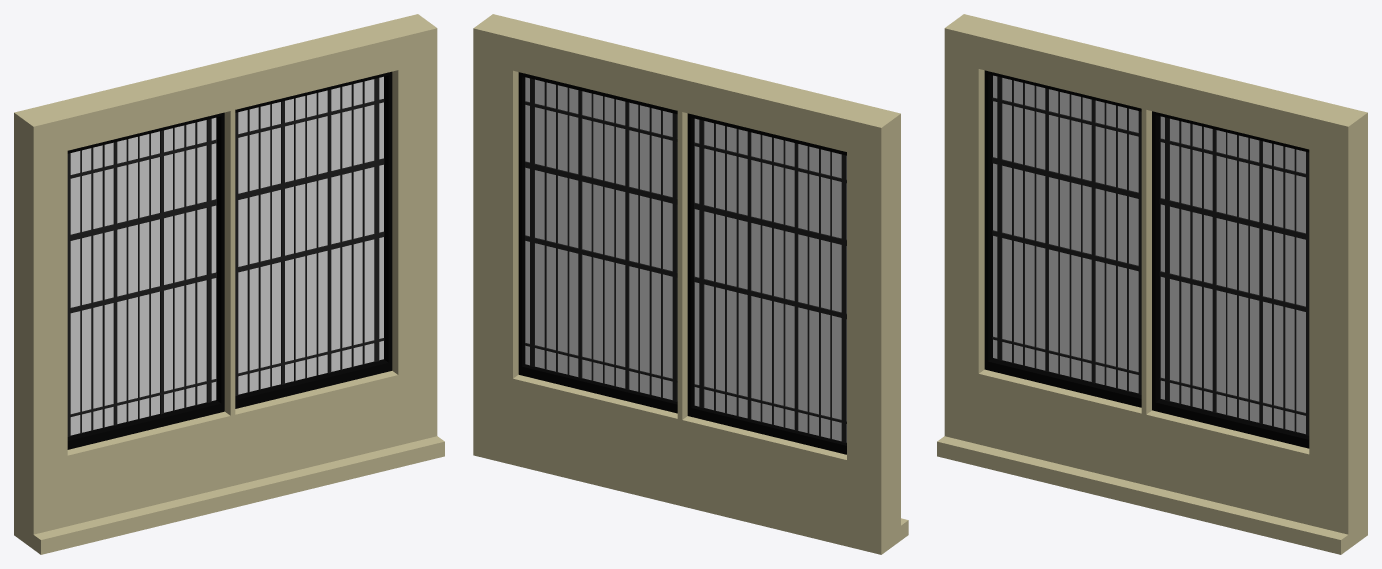
The model's file is SeperateWindows.fbx.
3 renders of one model, left to right at view 1: azimuth 30°, elevation 25°; view 2: azimuth 150°, elevation 25°; view 3: azimuth 330°, elevation 25°, orthographic.
Parts seen in each view (by area): view 1: Window Slits; view 2: Window Slits; view 3: Window Slits.
Boxes of the visible parts, x1,y1,x2,y2 form: Window Slits: (14,14,444,554); Window Slits: (473,14,908,554); Window Slits: (937,14,1367,554).
Bounding box in the file's own units: 600 × 600 × 69.16.
